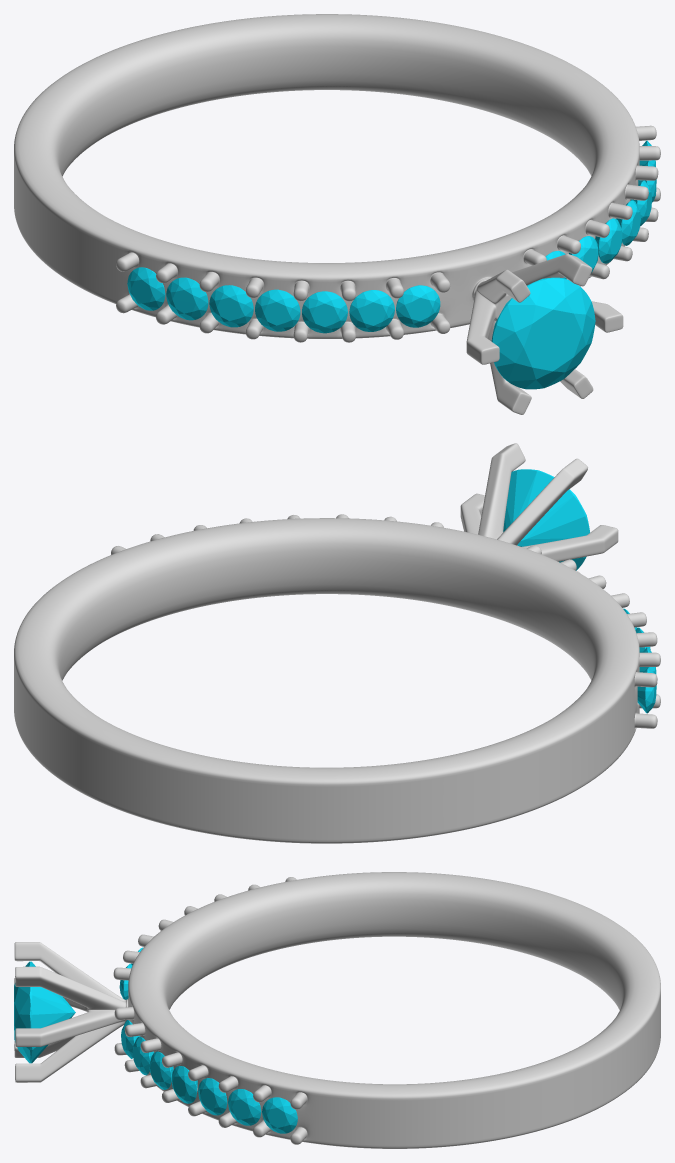
File: clarapucciring.glb
The picture shows the model from 3 angles, top to bottom: view 1: azimuth 30°, elevation 25°; view 2: azimuth 150°, elevation 25°; view 3: azimuth 270°, elevation 25°; orthographic projection. The views are drawn at different scales.
Visible parts, largest first — view 1: the_crowned_ring; view 2: the_crowned_ring; view 3: the_crowned_ring.
Boxes of the visible parts, x1=… form: the_crowned_ring: x1=14, y1=14, x2=660, y2=414; the_crowned_ring: x1=14, y1=443, x2=660, y2=843; the_crowned_ring: x1=14, y1=872, x2=660, y2=1148.
Bounding box in the file's own units: 1.13 × 0.2712 × 1.37.
